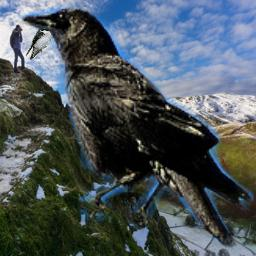Crow: (10, 4, 254, 251)
Swallow: (26, 25, 52, 60)
